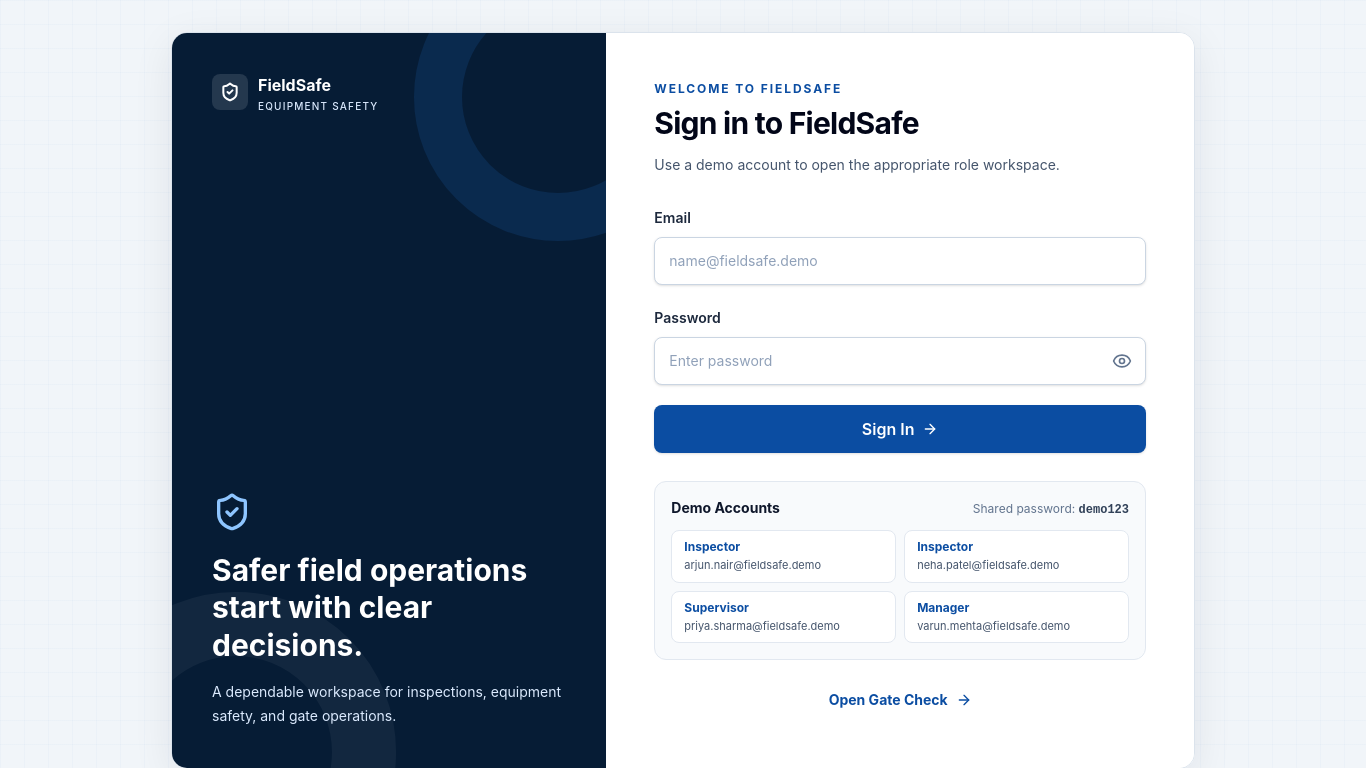
Scenario: authentication routing › shows an accessible error and remains on login for invalid credentials
Expected: the heading "Sign in to FieldSafe" is shown, [654, 105, 919, 141]
Type "arjun.nair@fieldsafe.demo" into the field labelled "Email" at (900, 261), box [654, 237, 1146, 285]
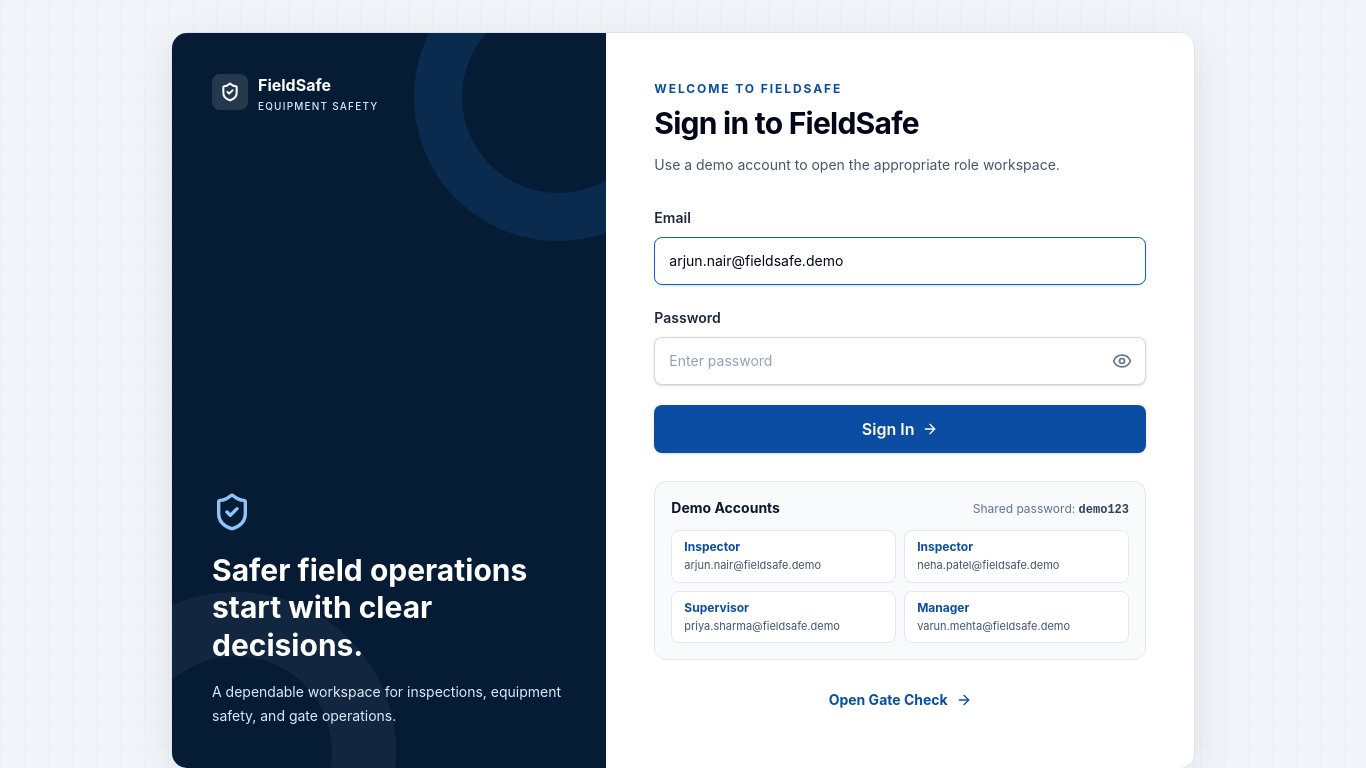
Type "wrong-password" into the password field labelled "Password" at (900, 361), box [654, 337, 1146, 385]
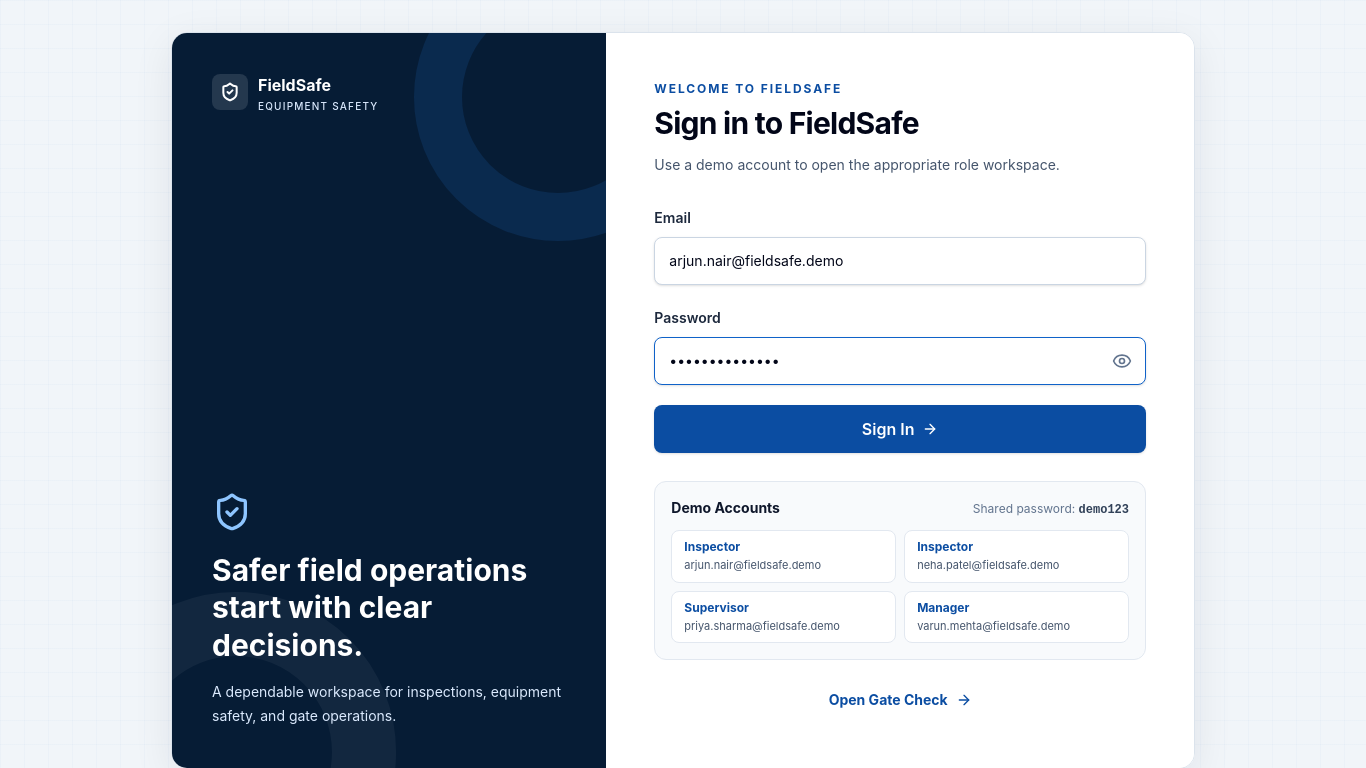
Click the button "Sign In" at (900, 429), box [654, 405, 1146, 453]
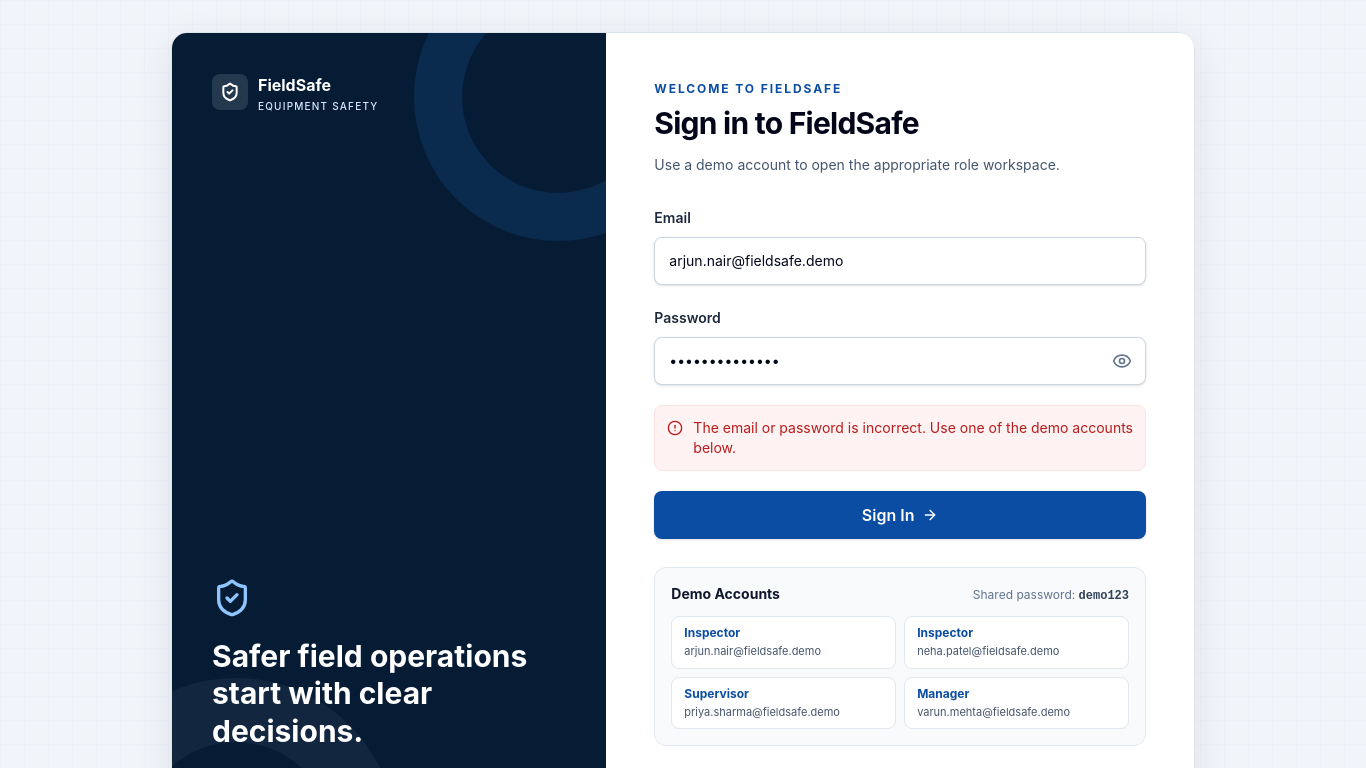
Expected: the message shows "The email or password is incorrect", [693, 419, 1133, 456]
